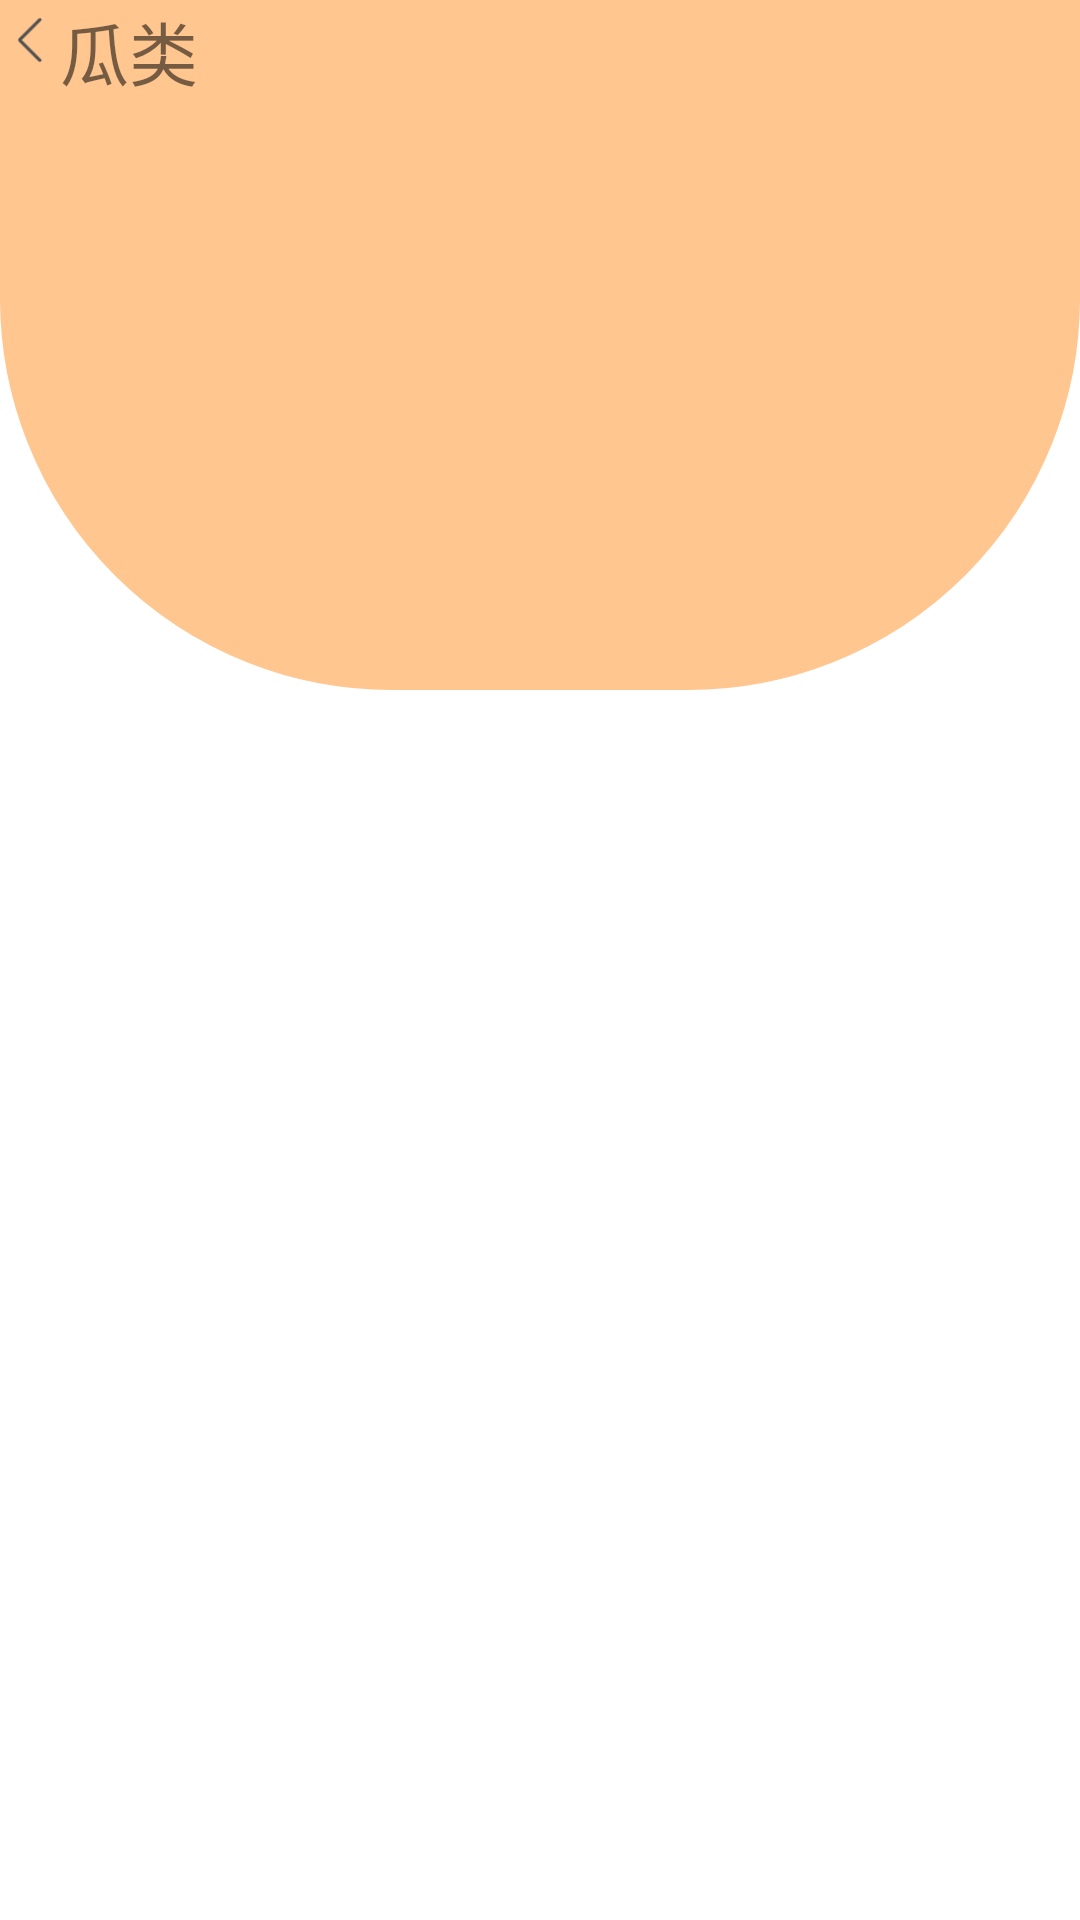

Screen size 1080px x 1920px. Icon name, then its center in pixels as (x=x, y=y):
fanhui: (x=30, y=40)
